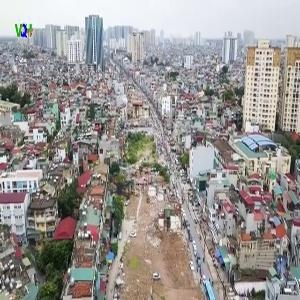drone: (79, 144, 166, 231)
